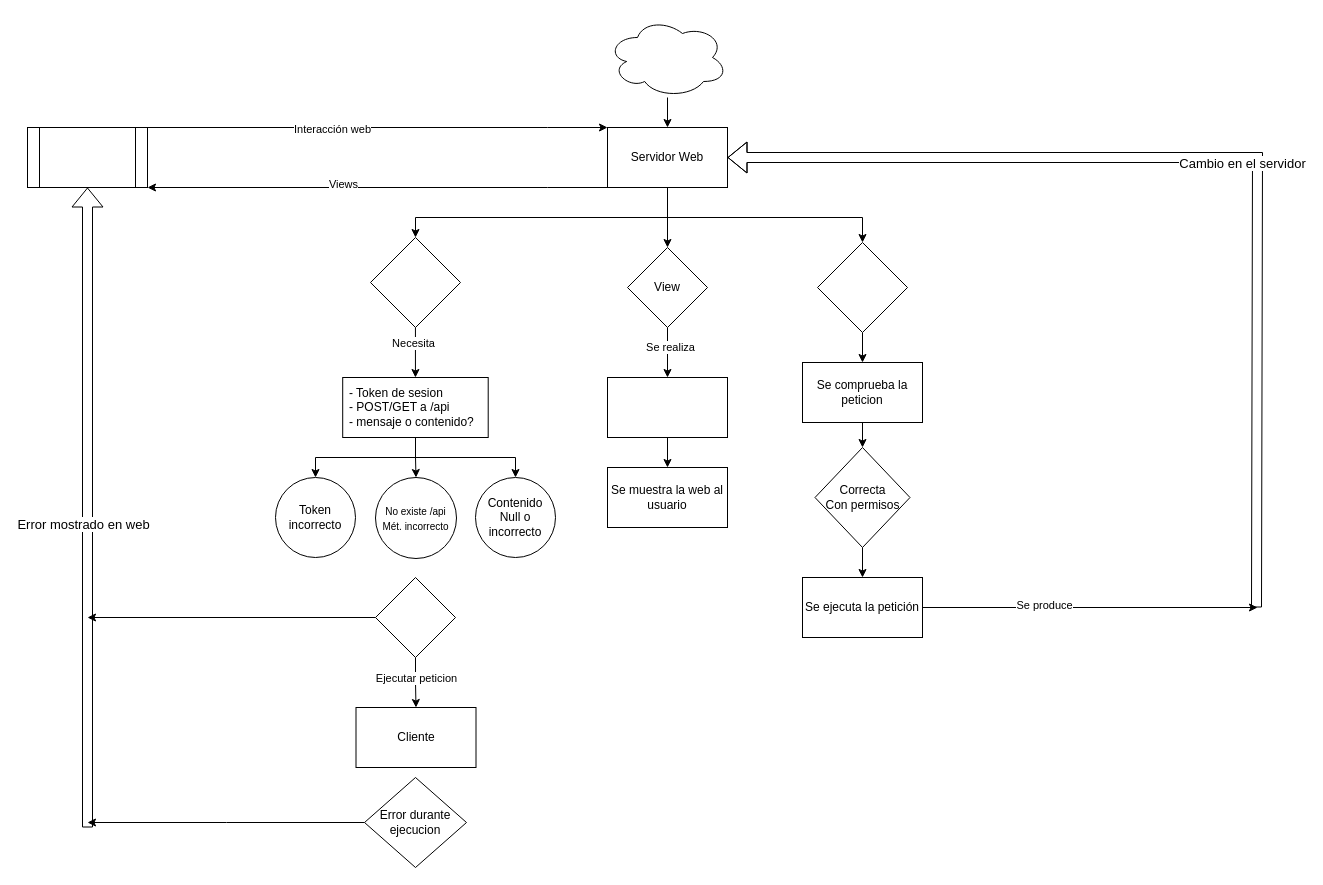
Image size: 1323x885. Some labels were removed from this diagram. Here are the shapes that lost their labels. From the top down, the centre of each, then its label:
point 667,57: Django
point 87,157: Usuario Móvil/PC
point 415,282: Peticion a cliente
point 862,287: Petición al servidor
point 667,407: Petición web a la url solicitada
point 415,617: Correcto
